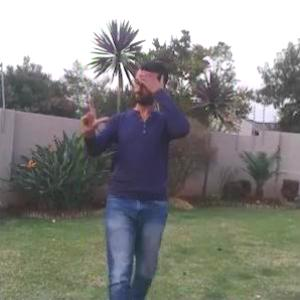land_hand: (75, 93, 115, 138)
